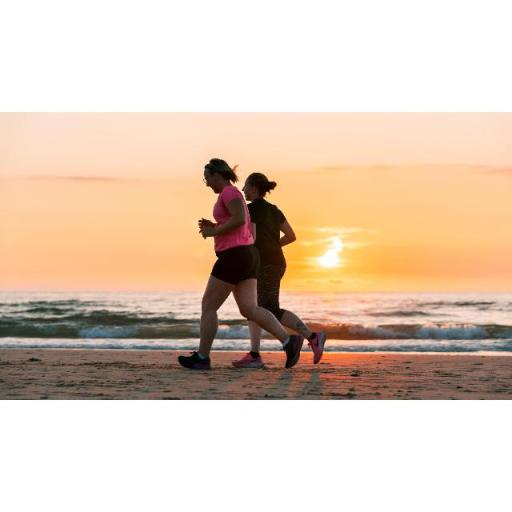Running: (158, 152, 308, 378)
